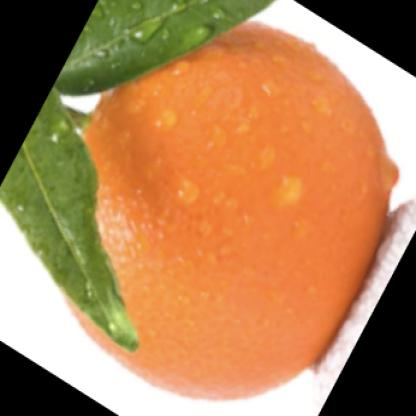fresh: (65, 22, 399, 400)
